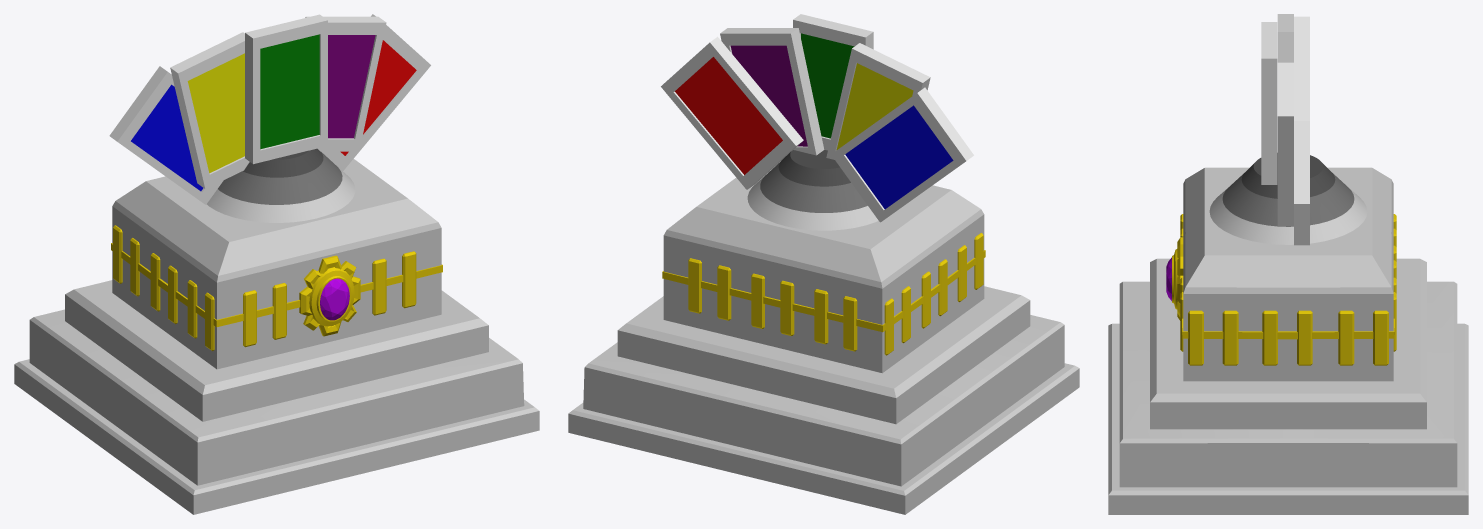
Rendered from nemelex.fbx.
3 renders of one model, left to right at view 1: azimuth 30°, elevation 25°; view 2: azimuth 150°, elevation 25°; view 3: azimuth 270°, elevation 25°, orthographic. The views are drawn at different scales.
Parts seen in each view (by area): view 1: polySurface6, polySurface128, polySurface124, polySurface120, polySurface130, polySurface138, polySurface127, polySurface5, polySurface121, polySurface15, polySurface2, polySurface4 (+2 smaller); view 2: polySurface6, polySurface127, polySurface138, polySurface120, polySurface130, polySurface124, polySurface128, polySurface5, polySurface104, polySurface102, polySurface105, polySurface107 (+2 smaller); view 3: polySurface6, polySurface120, polySurface130, polySurface128, polySurface127, polySurface138, polySurface5, polySurface113, polySurface111, polySurface112, polySurface110, polySurface108 (+2 smaller).
Part boxes in pixels (box(x1,y1,x2,y2)): polySurface6: box(14, 159, 539, 514); polySurface128: box(245, 14, 327, 164); polySurface124: box(170, 32, 249, 188); polySurface120: box(206, 148, 355, 222); polySurface130: box(305, 16, 386, 151); polySurface138: box(109, 66, 223, 204); polySurface127: box(321, 14, 430, 170); polySurface5: box(111, 243, 442, 327); polySurface121: box(309, 267, 354, 326); polySurface15: box(320, 278, 349, 320); polySurface2: box(372, 258, 386, 315); polySurface4: box(402, 251, 416, 308); polySurface6: box(568, 161, 1079, 514); polySurface127: box(661, 36, 803, 189); polySurface138: box(831, 87, 973, 222); polySurface120: box(747, 149, 878, 230); polySurface130: box(720, 28, 824, 155); polySurface124: box(826, 43, 930, 159); polySurface128: box(793, 14, 873, 150); polySurface5: box(662, 250, 985, 332); polySurface104: box(843, 296, 857, 351); polySurface102: box(814, 289, 828, 344); polySurface105: box(780, 280, 794, 335); polySurface107: box(717, 265, 731, 320); polySurface6: box(1108, 167, 1468, 514); polySurface120: box(1209, 153, 1367, 244); polySurface130: box(1277, 62, 1293, 225); polySurface128: box(1261, 22, 1277, 184); polySurface127: box(1294, 121, 1309, 245); polySurface138: box(1294, 16, 1309, 120); polySurface5: box(1182, 318, 1394, 339); polySurface113: box(1222, 310, 1238, 365); polySurface111: box(1338, 310, 1354, 365); polySurface112: box(1188, 310, 1203, 365); polySurface110: box(1373, 310, 1388, 365); polySurface108: box(1262, 310, 1277, 365).
Size of the model in its own units: 21.11 by 22.6 by 18.92.
